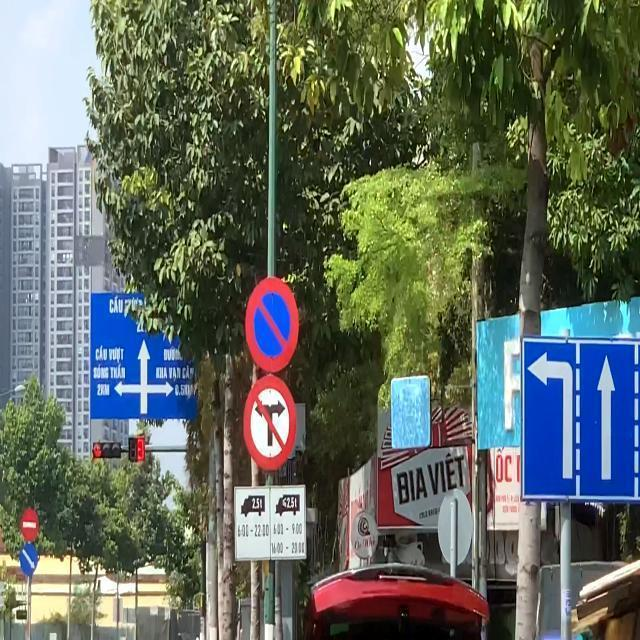102-cam-di-nguoc-chieu: (20, 506, 40, 540)
131a-cam-do-xe: (244, 277, 301, 373)
137-cam-re-trai-va-re-phai: (243, 376, 298, 470)
302a-huong-phai-di-vong-chuong-ngai-vat-1: (18, 544, 38, 576)
